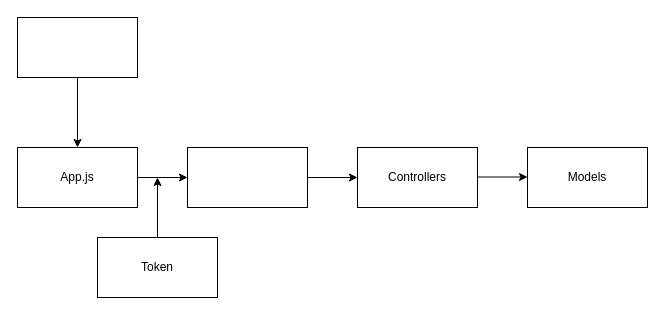
Some shapes in this 665 by 315 pixel diagram are drawn without their labels. The box of each missing label's shape, as (x1, y1, x2, y2) in pixels:
Database Connection: (16, 16, 138, 78)
Routes: (186, 146, 308, 208)
